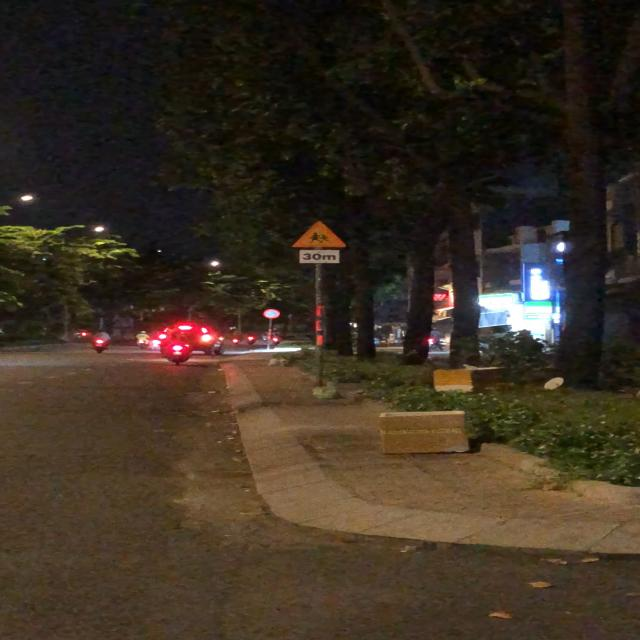Bien bao tre em: (290, 217, 352, 250)
